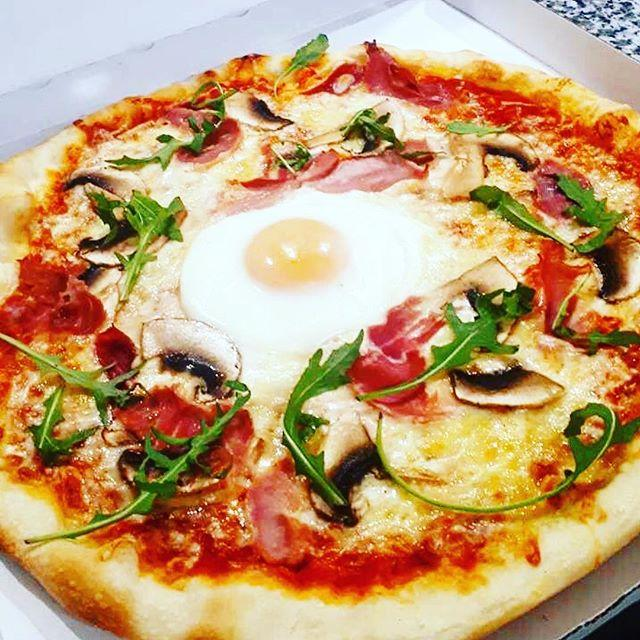champignon: (297, 417, 386, 531), (138, 317, 242, 397), (442, 367, 572, 411), (574, 227, 640, 307), (461, 131, 541, 182), (62, 166, 149, 208), (219, 94, 303, 137)
